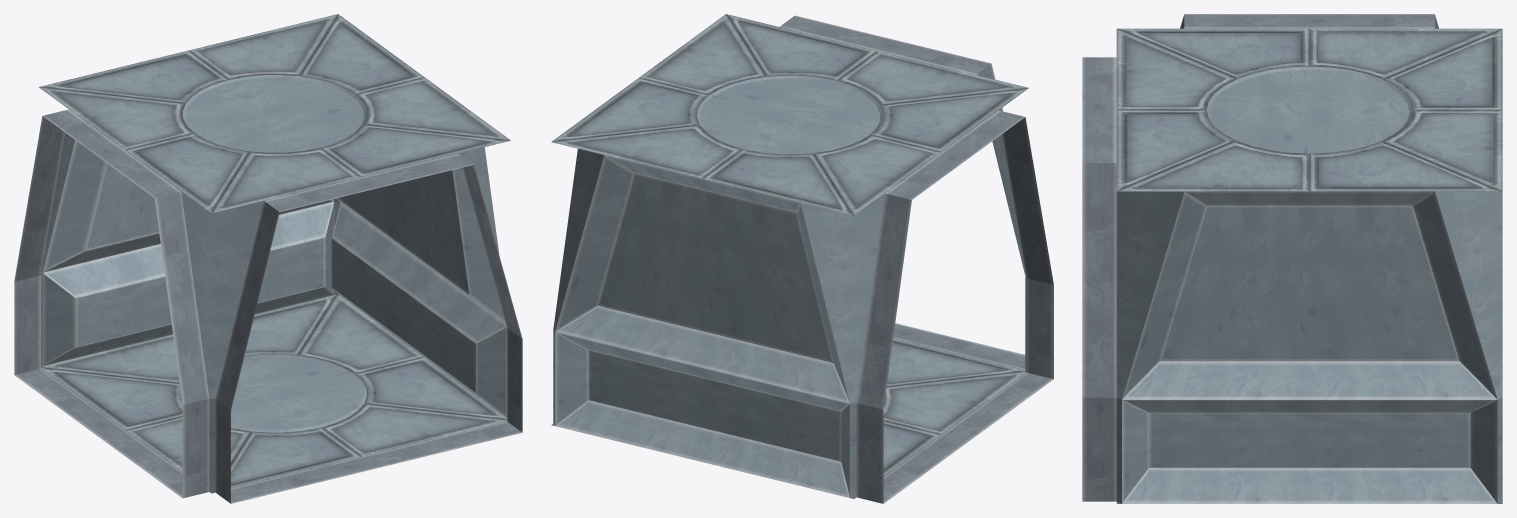
Rendered from CorridorC.fbx.
3 renders of one model, left to right at view 1: azimuth 30°, elevation 25°; view 2: azimuth 150°, elevation 25°; view 3: azimuth 270°, elevation 25°, orthographic. The views are drawn at different scales.
Parts seen in each view (by area): view 1: corridorC01, Bridge; view 2: corridorC01, Bridge; view 3: corridorC01, Bridge.
Part boxes in pixels (x1,y1,x2,y2): corridorC01: (39,14,510,493); Bridge: (14,109,522,503); corridorC01: (551,14,1028,498); Bridge: (779,15,1053,503); corridorC01: (1116,28,1502,503); Bridge: (1082,14,1438,501).
Bounding box in the file's own units: 1.12 × 0.9169 × 1.12.
